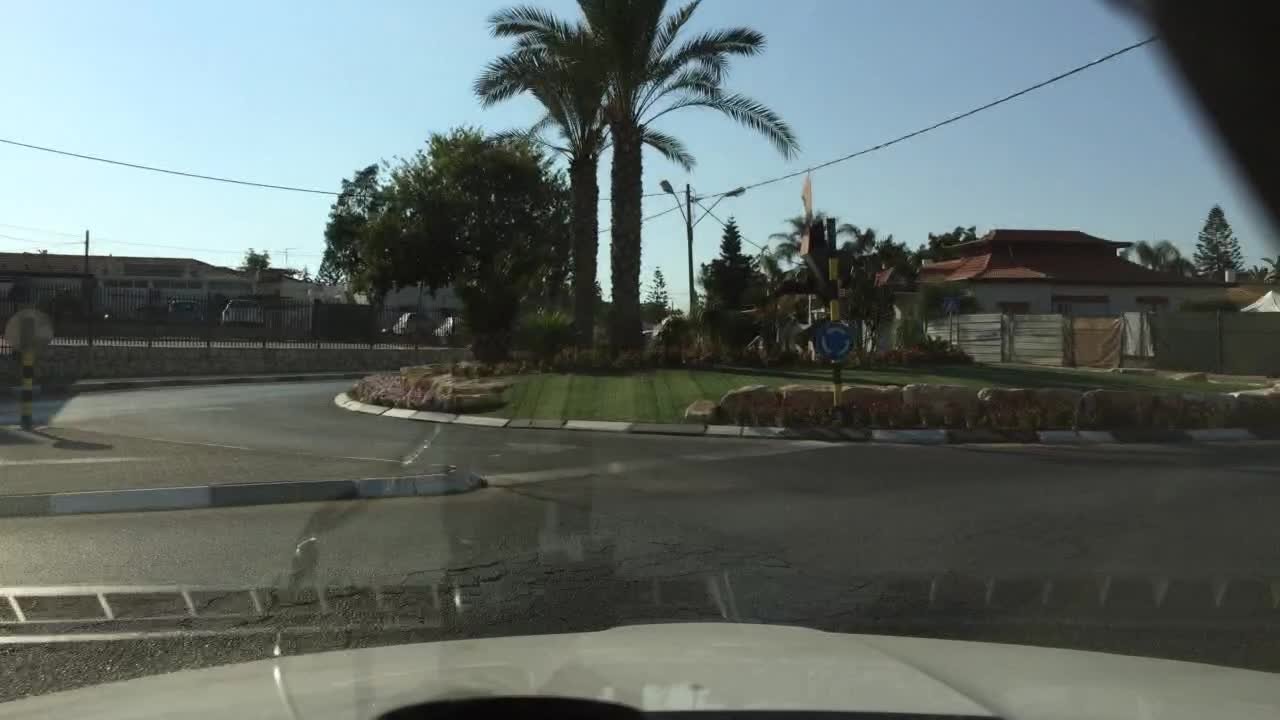car: (218, 298, 264, 329), (432, 314, 474, 347), (385, 313, 433, 341), (165, 296, 201, 329), (637, 326, 667, 348)
traffic sign: (5, 310, 51, 359), (814, 320, 856, 360)
